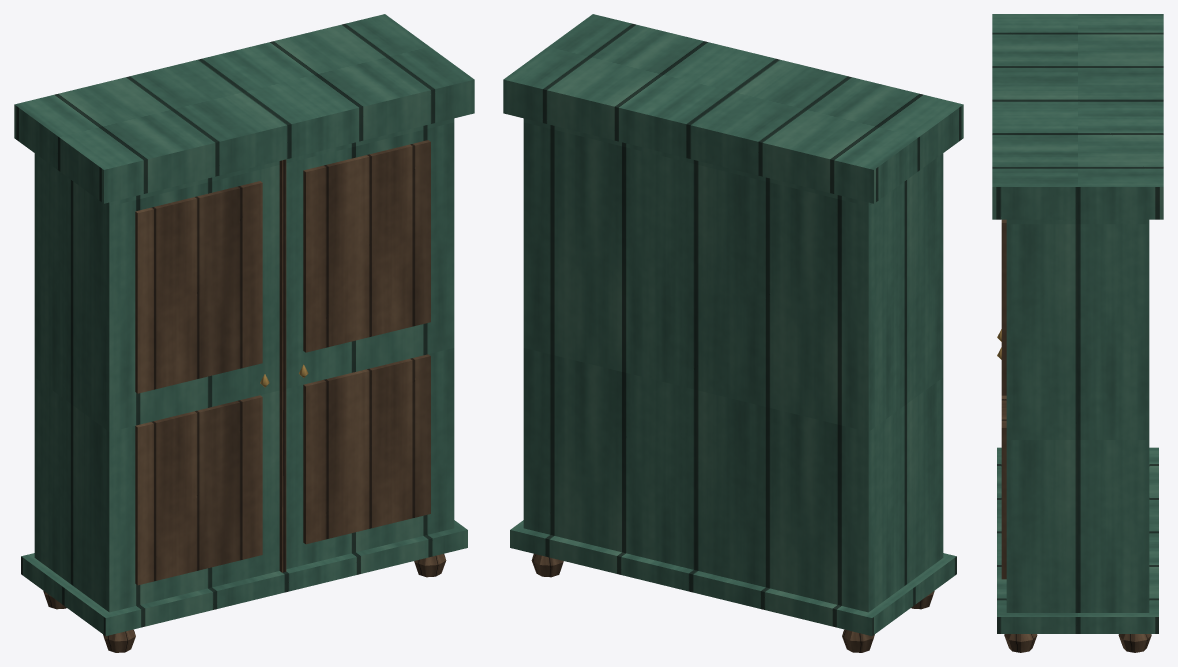
The model's file is Wardrobe_Painted_1.gltf.
3 renders of one model, left to right at view 1: azimuth 30°, elevation 25°; view 2: azimuth 150°, elevation 25°; view 3: azimuth 270°, elevation 25°, orthographic. The views are drawn at different scales.
Visible parts, largest first — view 1: Wardrobe_Painted_1; view 2: Wardrobe_Painted_1; view 3: Wardrobe_Painted_1.
Part boxes in pixels (x1=…): Wardrobe_Painted_1: x1=14, y1=14, x2=474, y2=652; Wardrobe_Painted_1: x1=503, y1=14, x2=963, y2=652; Wardrobe_Painted_1: x1=992, y1=14, x2=1163, y2=652.
Size of the model in its own units: 1.72 by 2.2 by 0.72.
Materials: 3 (3 with a texture image).
